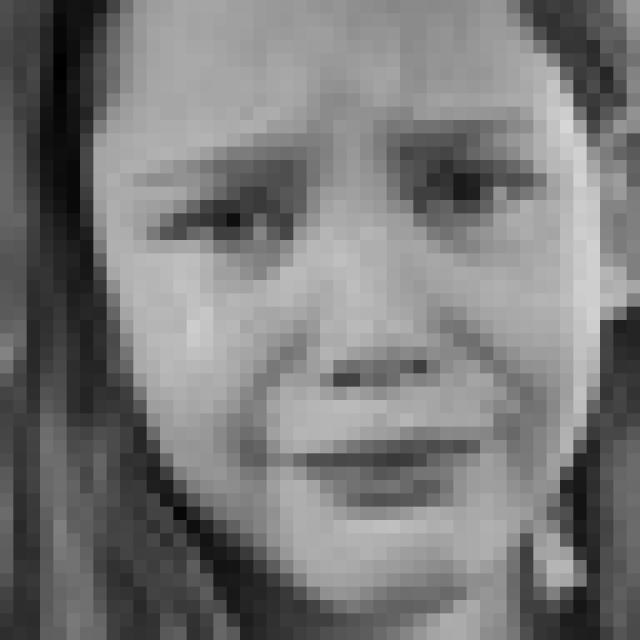sad: (130, 93, 564, 518)
